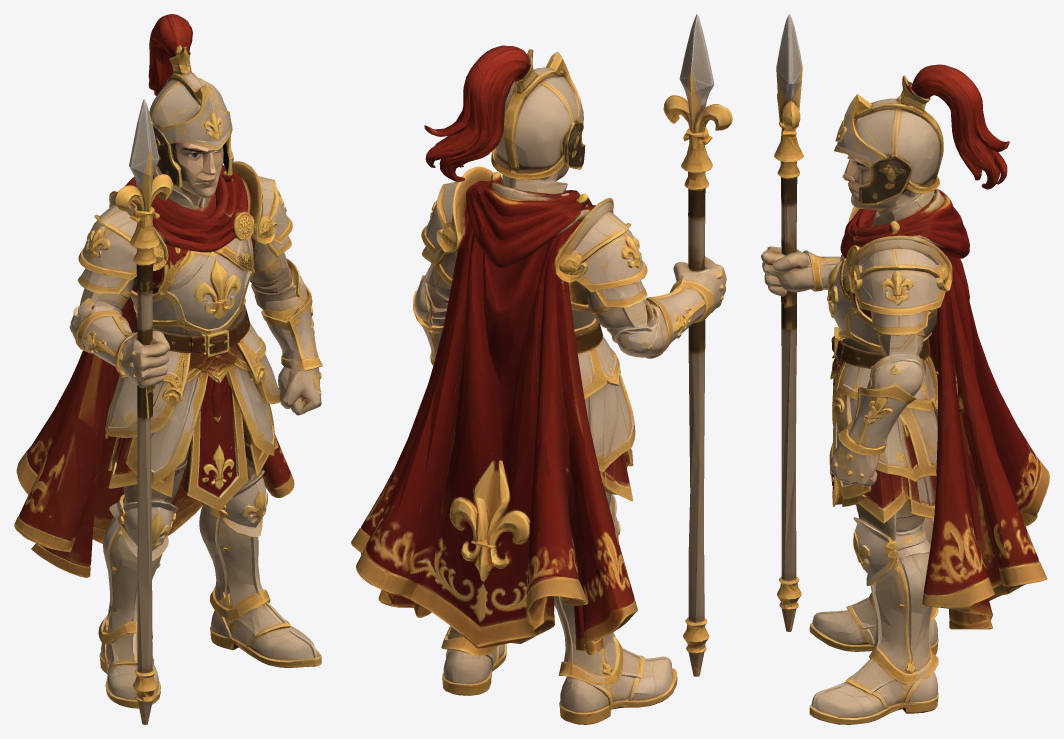
The model's file is pawn_white.glb.
3 views of the same model, side by side, from view 1: azimuth 30°, elevation 25°; view 2: azimuth 150°, elevation 25°; view 3: azimuth 270°, elevation 25° (orthographic). The views are drawn at different scales.
Parts seen in each view (by area): view 1: output_unwrapped; view 2: output_unwrapped; view 3: output_unwrapped.
Part boxes in pixels (x1=…): output_unwrapped: x1=14, y1=14, x2=322, y2=724; output_unwrapped: x1=351, y1=14, x2=732, y2=724; output_unwrapped: x1=761, y1=14, x2=1049, y2=724.
Bounding box in the file's own units: 0.0353 × 0.08 × 0.034.
Materials: 1 (1 with a texture image).
